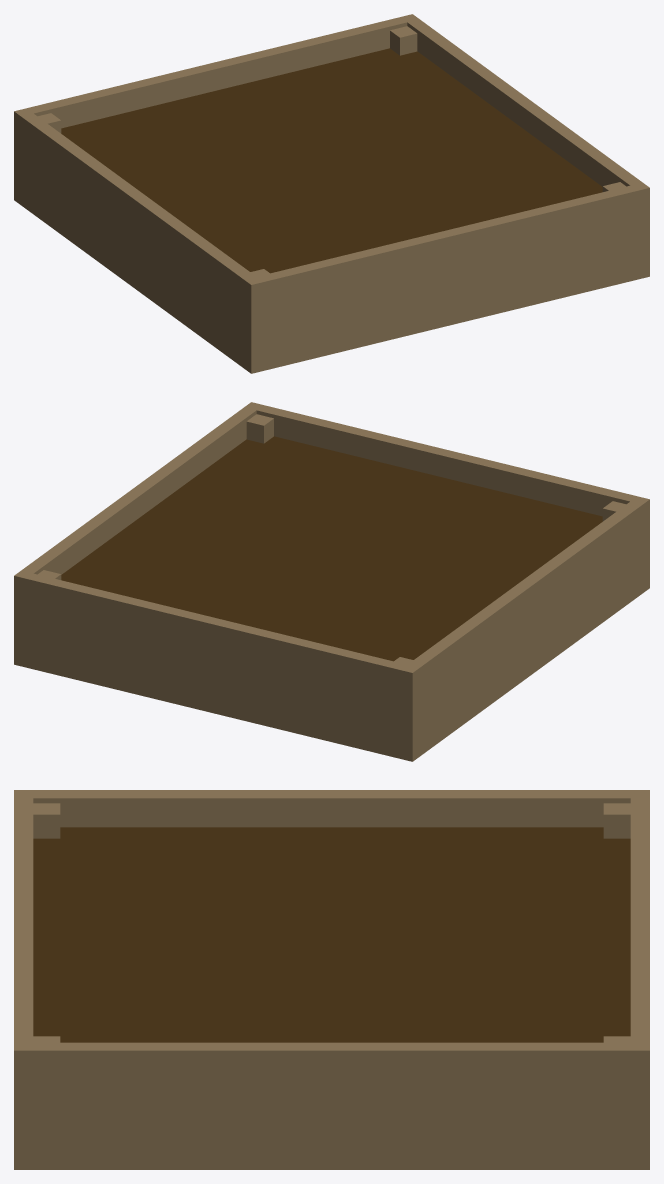
The model's file is Shelf_Large_A_01.fbx.
3 renders of one model, top to bottom at view 1: azimuth 30°, elevation 25°; view 2: azimuth 150°, elevation 25°; view 3: azimuth 270°, elevation 25°, orthographic. The views are drawn at different scales.
Parts seen in each view (by area): view 1: polySurface57, polySurface58, polySurface60; view 2: polySurface57, polySurface58, polySurface61; view 3: polySurface58, polySurface57, polySurface59, polySurface62.
Boxes of the visible parts, bbox=[...] form: polySurface57: bbox=[14, 14, 649, 373]; polySurface58: bbox=[61, 48, 602, 273]; polySurface60: bbox=[390, 26, 417, 55]; polySurface57: bbox=[14, 402, 649, 761]; polySurface58: bbox=[61, 436, 602, 661]; polySurface61: bbox=[246, 414, 273, 443]; polySurface58: bbox=[33, 827, 630, 1042]; polySurface57: bbox=[14, 790, 649, 1169]; polySurface59: bbox=[603, 803, 630, 838]; polySurface62: bbox=[33, 803, 60, 838].
Size of the model in its own units: 256 by 54.53 by 264.
